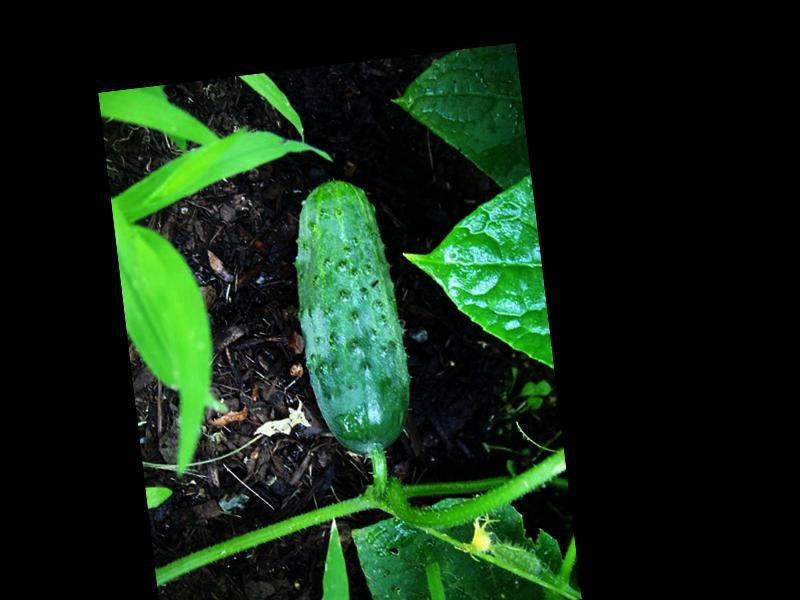Cucumber: (282, 171, 417, 460)
